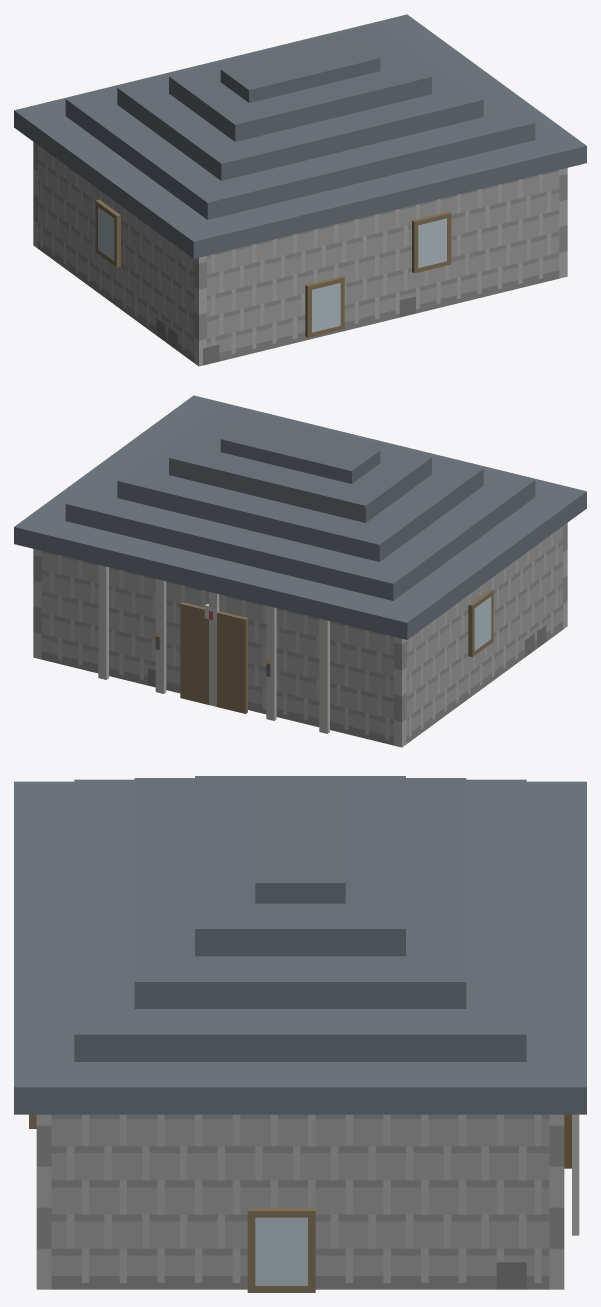
The model's file is capitania_puerto_02.glb.
3 views of the same model, one above another, from view 1: azimuth 30°, elevation 25°; view 2: azimuth 150°, elevation 25°; view 3: azimuth 270°, elevation 25° (orthographic). The views are drawn at different scales.
Visible parts, largest first — view 1: capitania_puerto_02; view 2: capitania_puerto_02; view 3: capitania_puerto_02.
Part boxes in pixels (bbox=[...]): capitania_puerto_02: bbox=[14, 14, 586, 366]; capitania_puerto_02: bbox=[14, 395, 586, 747]; capitania_puerto_02: bbox=[14, 776, 586, 1292].
Bounding box in the file's own units: 9.6 × 4.6 × 7.6.
